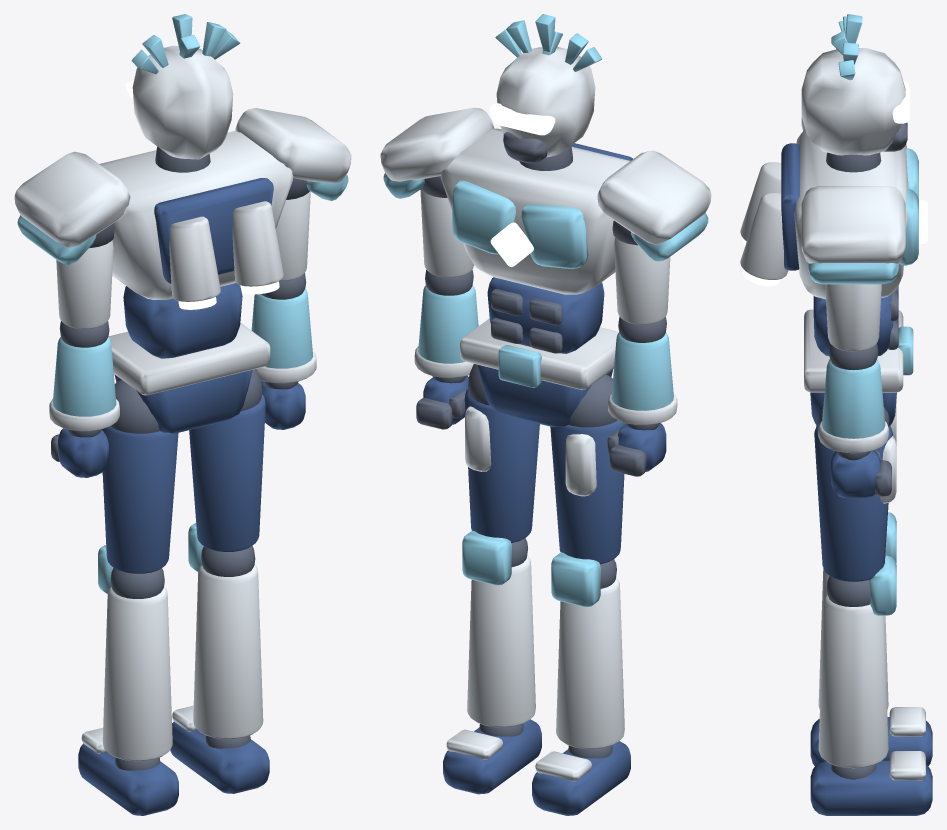
The model's file is frost.glb.
3 views of the same model, side by side, from view 1: azimuth 30°, elevation 25°; view 2: azimuth 150°, elevation 25°; view 3: azimuth 270°, elevation 25° (orthographic).
Visible parts, largest first — view 1: chest, upper_arm_l, shin_l, shin_r, head, thigh_l, hips, thigh_r, upper_arm_r, lower_arm_l, abdomen, lower_arm_r (+4 smaller); view 2: chest, shin_l, shin_r, upper_arm_l, head, thigh_l, hips, thigh_r, upper_arm_r, abdomen, lower_arm_l, lower_arm_r (+4 smaller); view 3: chest, upper_arm_r, shin_r, head, thigh_r, foot_r, lower_arm_r, hips, hand_r, foot_l, abdomen, shin_l.
Part boxes in pixels (bbox=[...]): chest: bbox=[99, 131, 293, 309]; upper_arm_l: bbox=[14, 151, 130, 328]; shin_l: bbox=[98, 545, 172, 761]; shin_r: bbox=[188, 523, 263, 738]; head: bbox=[125, 14, 240, 159]; thigh_l: bbox=[101, 380, 178, 573]; hips: bbox=[108, 322, 270, 433]; thigh_r: bbox=[189, 369, 265, 551]; upper_arm_r: bbox=[235, 108, 351, 280]; lower_arm_l: bbox=[49, 321, 119, 431]; abdomen: bbox=[123, 283, 242, 358]; lower_arm_r: bbox=[251, 273, 316, 383]; chest: bbox=[440, 128, 632, 294]; shin_l: bbox=[551, 552, 624, 748]; shin_r: bbox=[462, 530, 535, 727]; upper_arm_l: bbox=[597, 150, 711, 324]; head: bbox=[489, 14, 601, 163]; thigh_l: bbox=[550, 374, 625, 564]; hips: bbox=[460, 318, 618, 427]; thigh_r: bbox=[464, 364, 539, 542]; upper_arm_r: bbox=[380, 107, 494, 277]; abdomen: bbox=[487, 277, 604, 353]; lower_arm_l: bbox=[608, 316, 677, 424]; lower_arm_r: bbox=[414, 270, 478, 377]; chest: bbox=[740, 129, 927, 299]; upper_arm_r: bbox=[801, 186, 905, 351]; shin_r: bbox=[818, 555, 896, 768]; head: bbox=[801, 14, 909, 155]; thigh_r: bbox=[814, 407, 896, 581]; foot_r: bbox=[810, 751, 932, 815]; lower_arm_r: bbox=[818, 344, 888, 453]; hips: bbox=[804, 309, 913, 426]; hand_r: bbox=[831, 450, 891, 498]; foot_l: bbox=[810, 707, 932, 766]; abdomen: bbox=[813, 286, 898, 355]; shin_l: bbox=[818, 512, 896, 709].
Size of the model in its own units: 0.758 by 1.88 by 0.4258.
